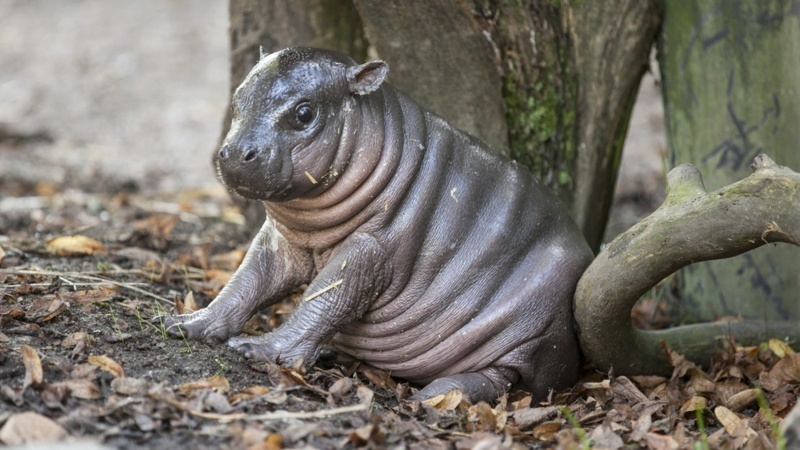hipopotamo: (167, 38, 602, 420)
